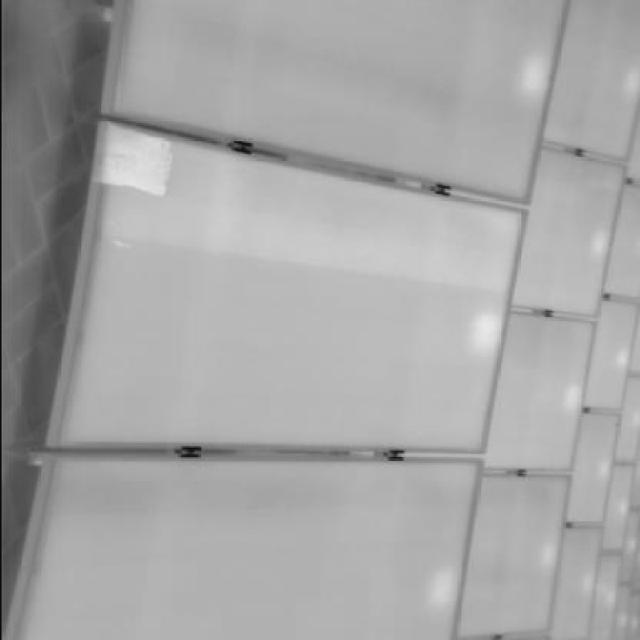hotspot: (96, 128, 172, 200), (462, 310, 507, 352)
